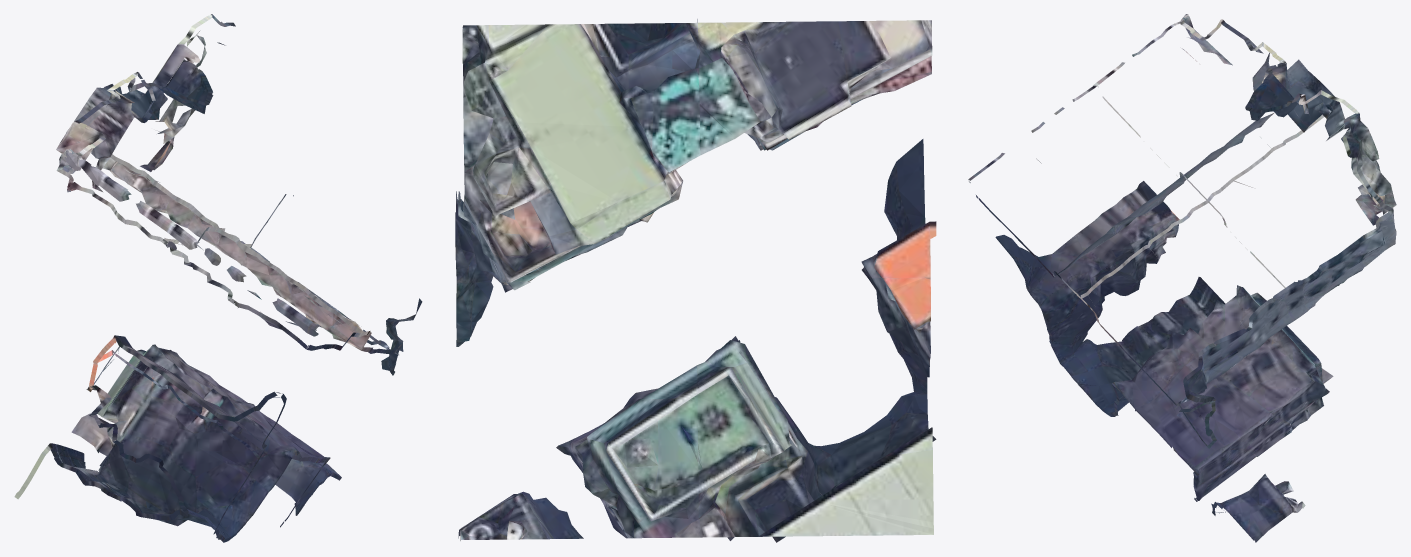
3 renders of one model, left to right at view 1: azimuth 30°, elevation 25°; view 2: azimuth 150°, elevation 25°; view 3: azimuth 270°, elevation 25°, orthographic. The views are drawn at different scales.
Size of the model in its own units: 43.93 by 48.99 by 47.64.
1 material, 1 textured.
